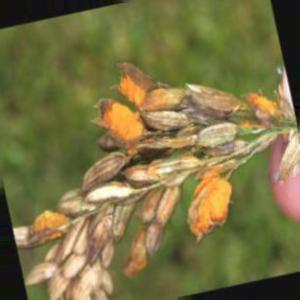Leaf_Scald: (186, 167, 242, 241), (102, 79, 156, 142), (25, 209, 66, 246), (246, 86, 282, 128), (133, 230, 153, 272)
